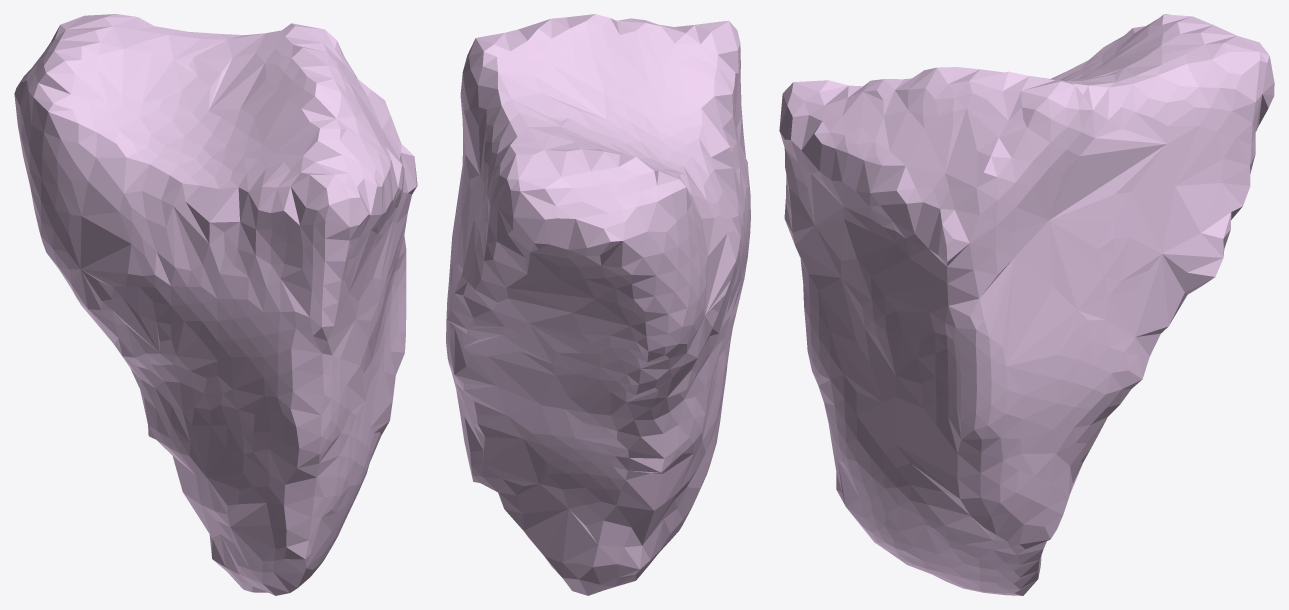
File: Model_26_RH__Agranular_insular_cortex_(AI).obj
The picture shows the model from 3 angles, left to right: view 1: azimuth 30°, elevation 25°; view 2: azimuth 150°, elevation 25°; view 3: azimuth 270°, elevation 25°; orthographic projection. The views are drawn at different scales.
Bounding box in the file's own units: 1.35 × 2.3 × 1.87.
